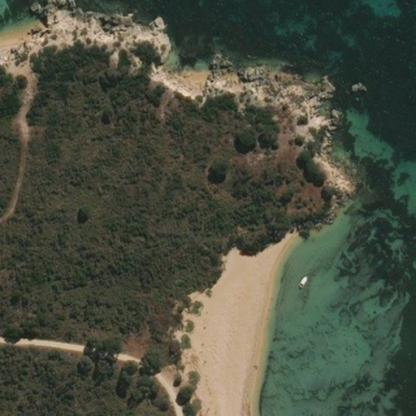ship: (293, 272, 311, 291)
